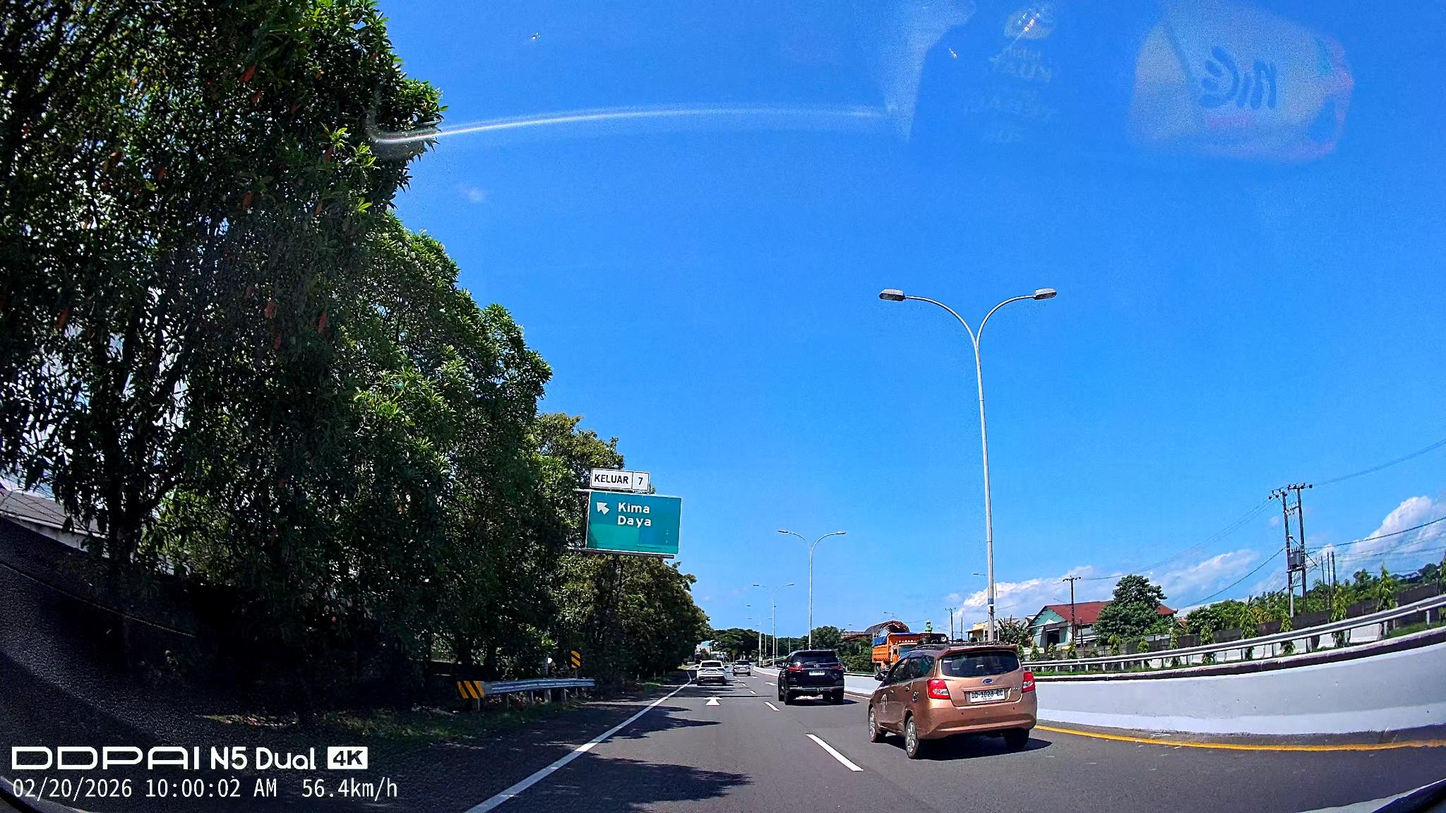rambu_teks: (585, 490, 683, 556)
